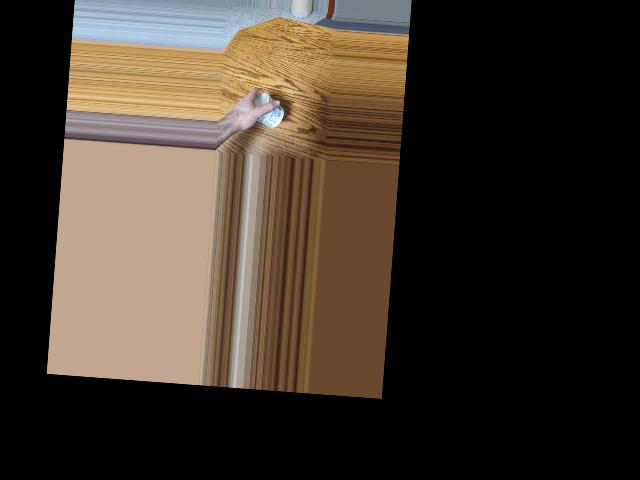cotage: (250, 91, 286, 130)
